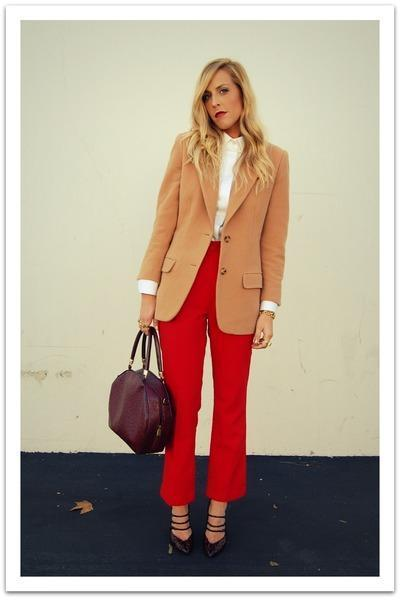bag: (109, 326, 175, 453)
jacket: (138, 132, 288, 347)
pants: (158, 241, 258, 506)
shirt: (127, 133, 291, 327)
shoe: (157, 527, 185, 557)
